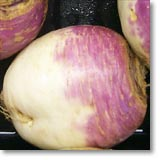turnip: (0, 23, 147, 153)
